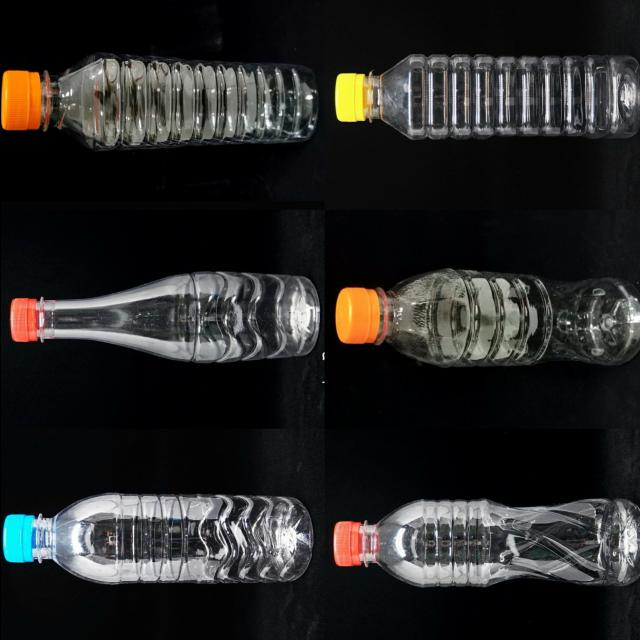plastik: (0, 54, 317, 151), (334, 269, 640, 367), (9, 272, 318, 363), (3, 494, 312, 584), (333, 499, 640, 587), (334, 55, 640, 140)
